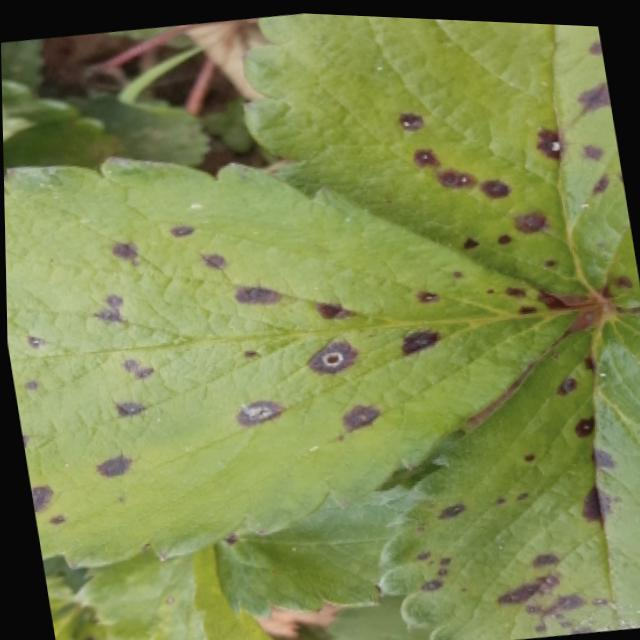Leaf Spot: (3, 152, 595, 569), (242, 10, 640, 304), (377, 301, 640, 640), (209, 480, 418, 620), (325, 603, 426, 640), (68, 601, 108, 640)
